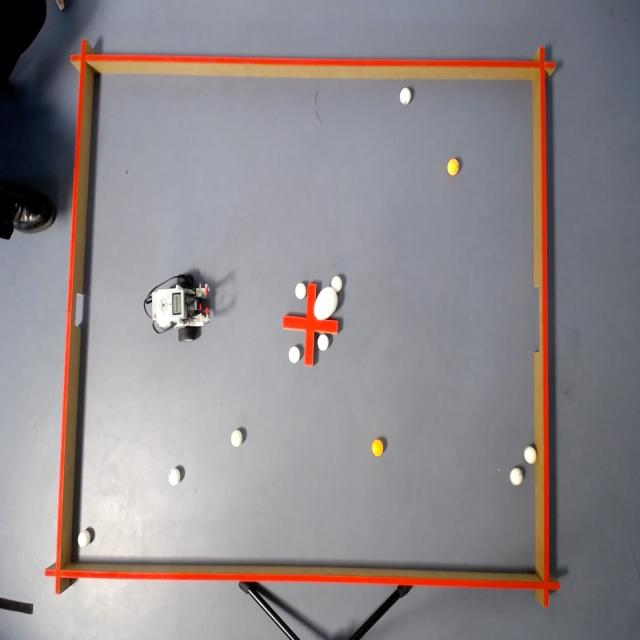boundaries: (40, 36, 94, 600), (45, 555, 567, 609), (69, 38, 557, 86), (527, 44, 561, 614)
cross: (281, 281, 339, 366)
egg: (314, 278, 336, 318)
large_goal: (524, 262, 560, 375)
orange_ball: (445, 154, 462, 178), (370, 435, 384, 459)
robot: (142, 272, 210, 342)
small_goal: (57, 272, 94, 345)
white_ball: (76, 528, 92, 553), (230, 428, 243, 450), (509, 466, 523, 486), (288, 344, 300, 365), (317, 334, 329, 354), (400, 86, 412, 106), (525, 446, 537, 466), (294, 283, 307, 300), (332, 276, 344, 293), (170, 466, 181, 484)
